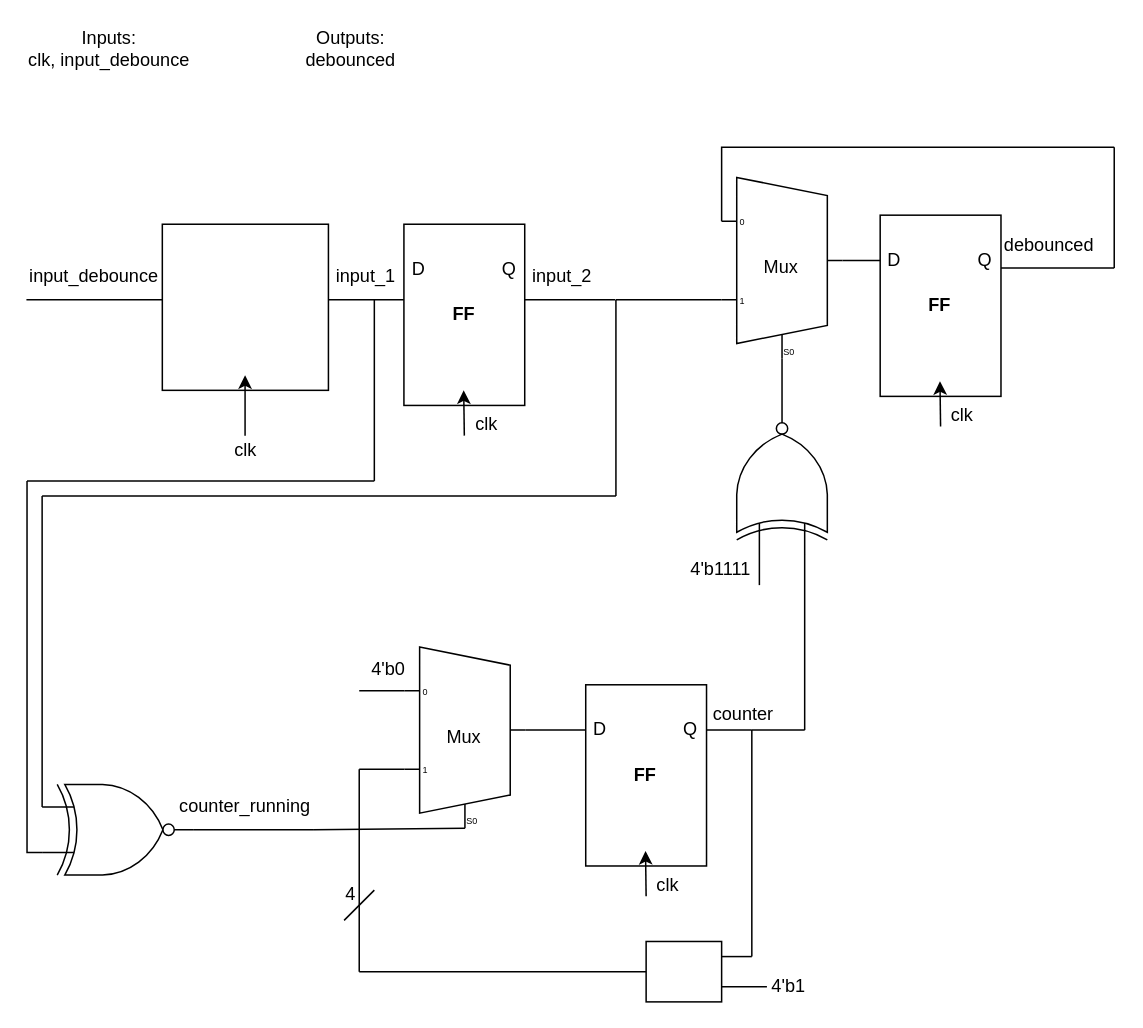
This 1143x1028 diagram has some shape labels left out. Here are the shapes that lost their labels. From the top down, the box of each, then its label:
(161, 223, 328, 390): InputSynchronizer
(645, 940, 722, 1002): 4-bit Adder
